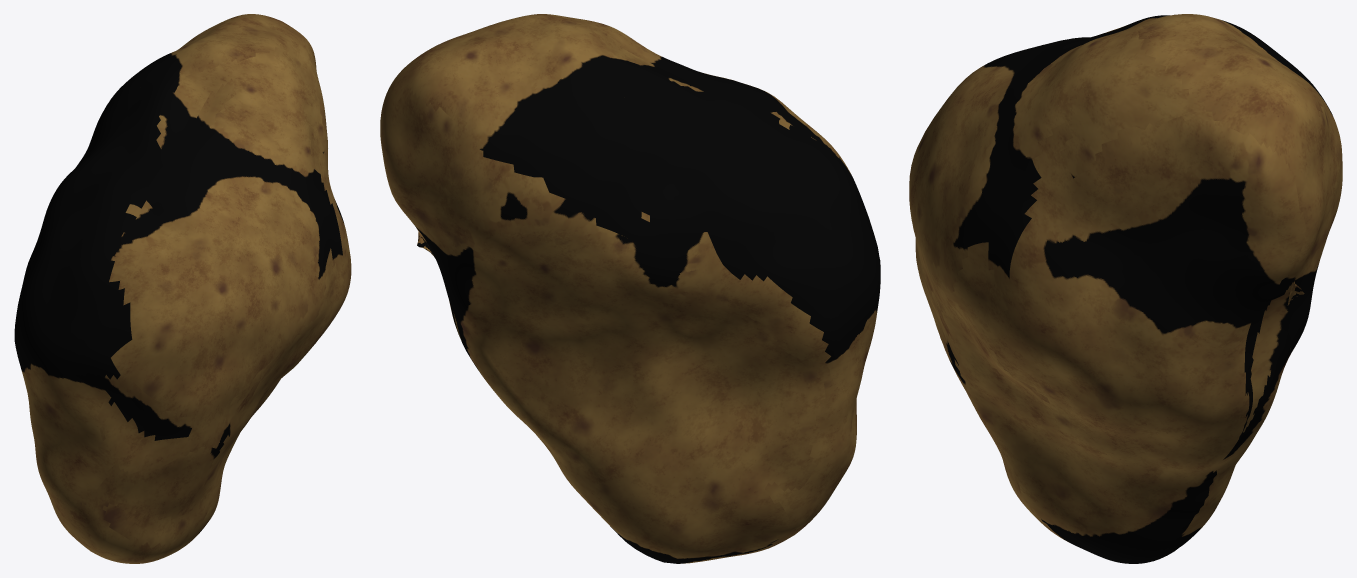
3 renders of one model, left to right at view 1: azimuth 30°, elevation 25°; view 2: azimuth 150°, elevation 25°; view 3: azimuth 270°, elevation 25°, orthographic. The views are drawn at different scales.
Parts seen in each view (by area): view 1: original_ico.003; view 2: original_ico.003; view 3: original_ico.003.
Boxes of the visible parts, box(x1,y1,x2,y2) form: original_ico.003: box(14, 14, 351, 563); original_ico.003: box(380, 14, 880, 563); original_ico.003: box(909, 14, 1342, 563).
Size of the model in its own units: 2.77 by 3.45 by 2.31.
